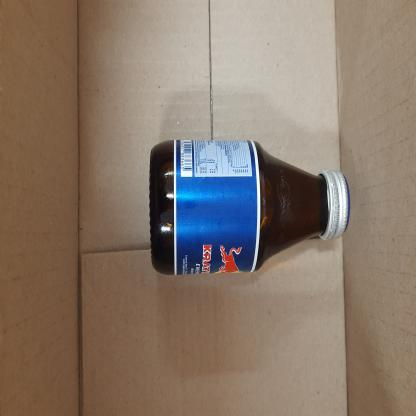keyboard: (144, 132, 355, 289)
